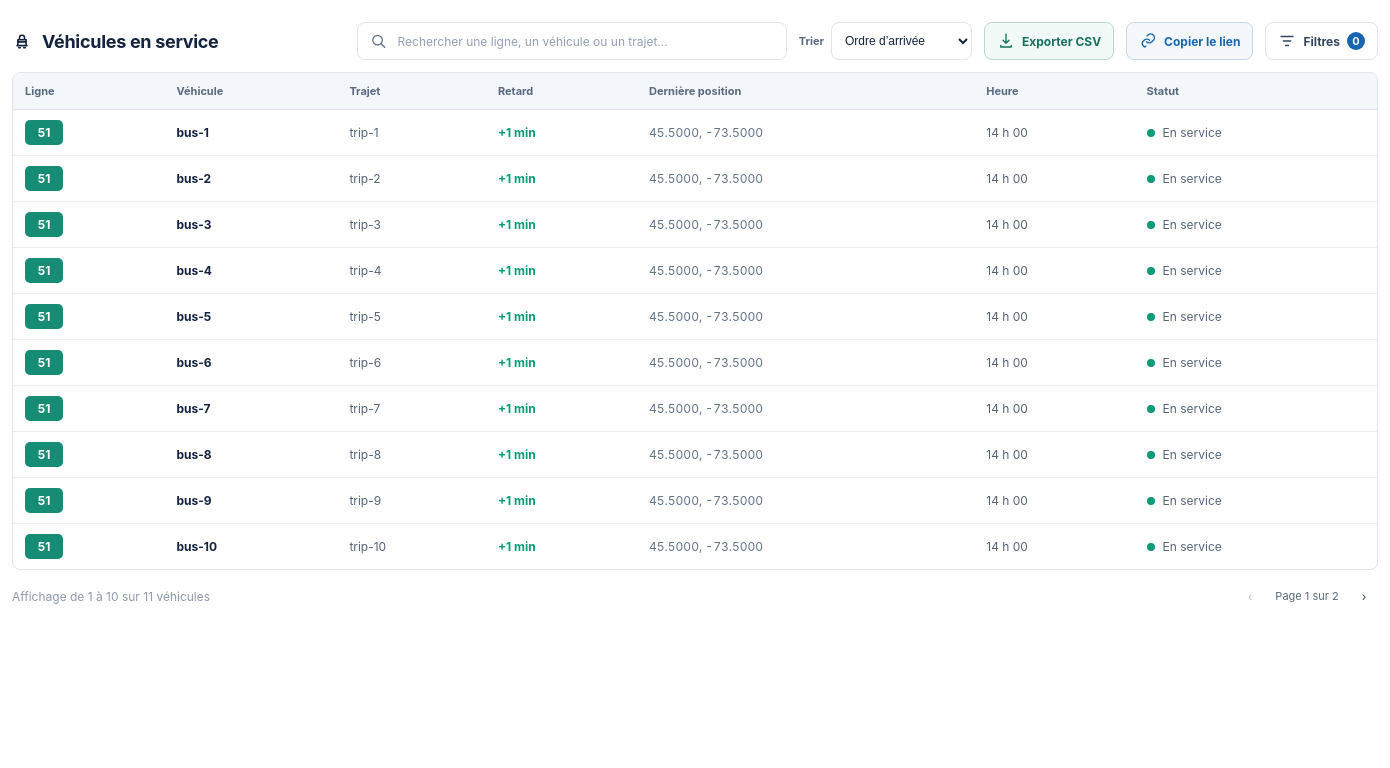
VehicleTable › paginates ten vehicles and exposes the current page
Expected: the text "Page 1 sur 2" is shown, 1275,589 -> 1339,603
Expected: the button named "Page précédente" is disabled, 1236,582 -> 1264,610
Click the button named "Page suivante" at (1364, 596), box 1350,582 -> 1378,610
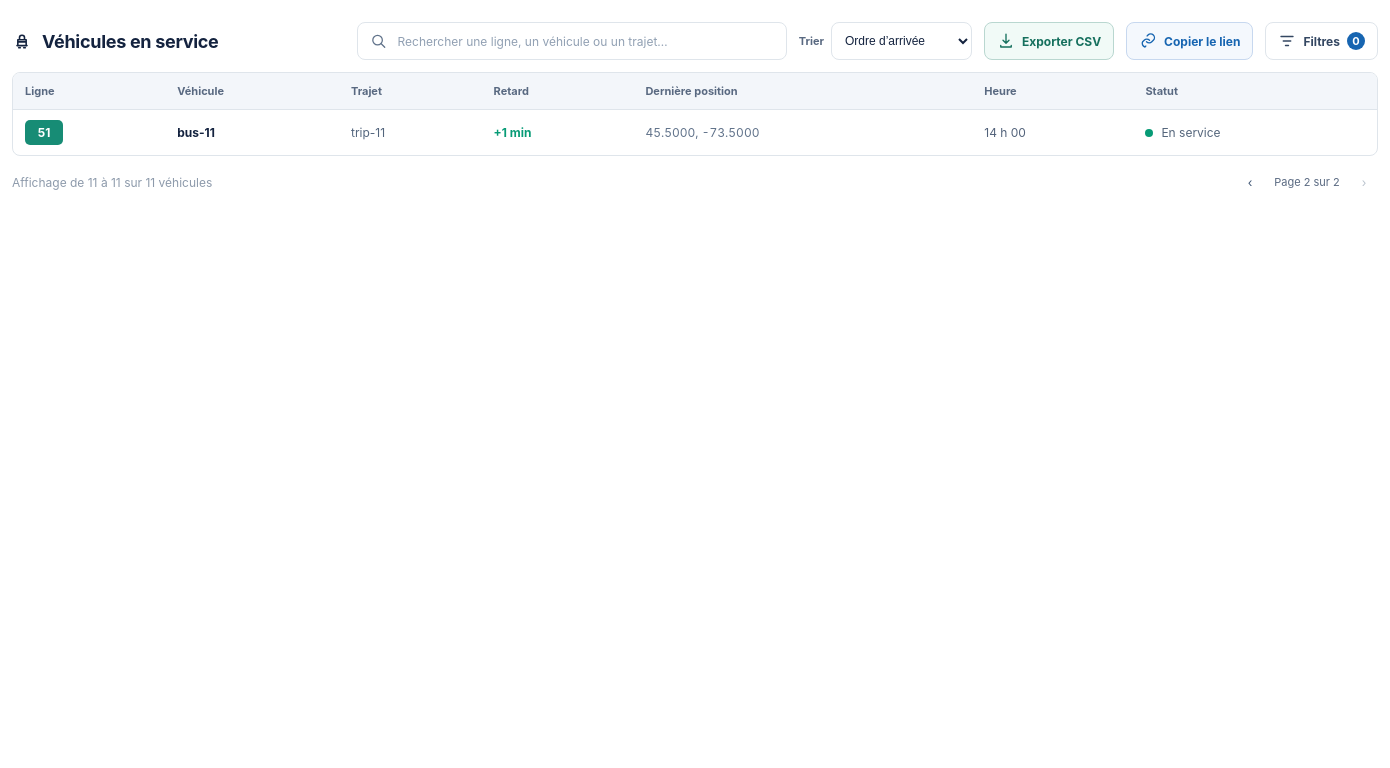
Expected: the button named "Page suivante" is disabled, 1350,168 -> 1378,196
Now the table shows "bus-11", box 177,125 -> 215,140
Now the text "Page 2 sur 2" is shown, box 1274,175 -> 1340,189
